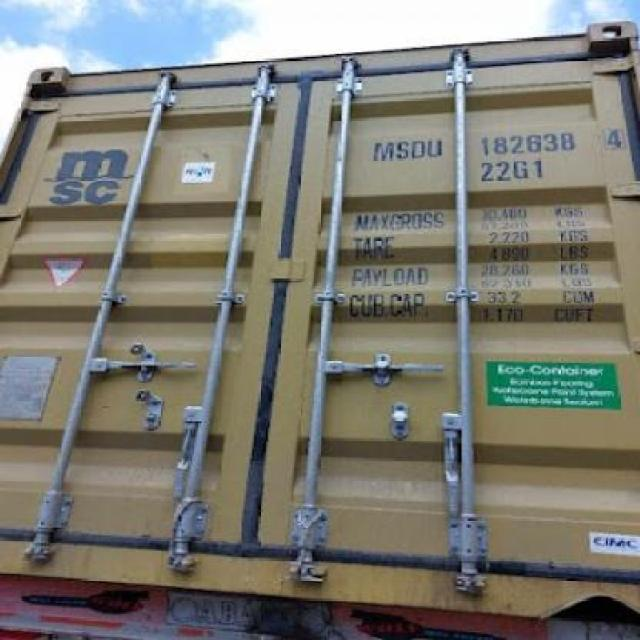ISO: (479, 158, 544, 182)
container_number: (369, 122, 628, 158)
